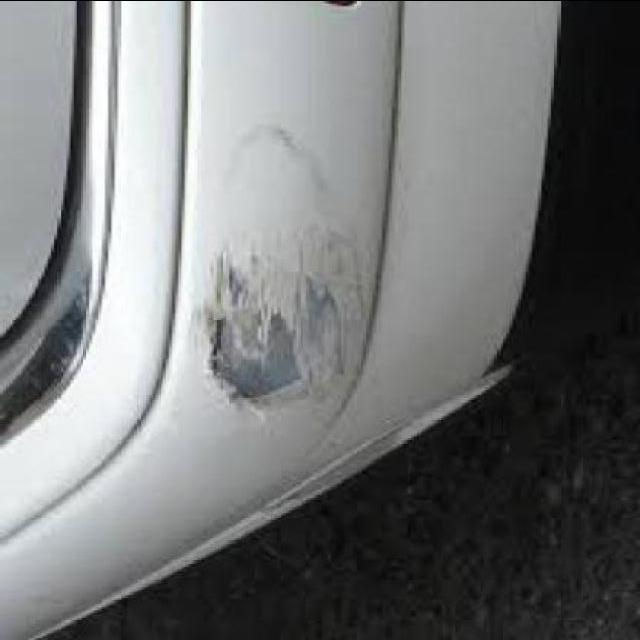front-bumper-scratch: (187, 202, 393, 443)
